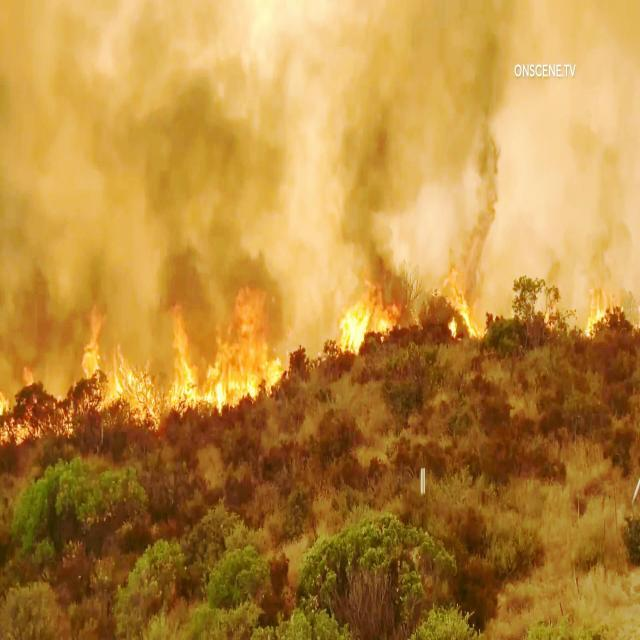Fire: (153, 298, 218, 427), (213, 292, 277, 423), (85, 312, 161, 418), (332, 256, 399, 368), (446, 267, 486, 348)
Smoke: (129, 43, 276, 292), (345, 38, 408, 276)
